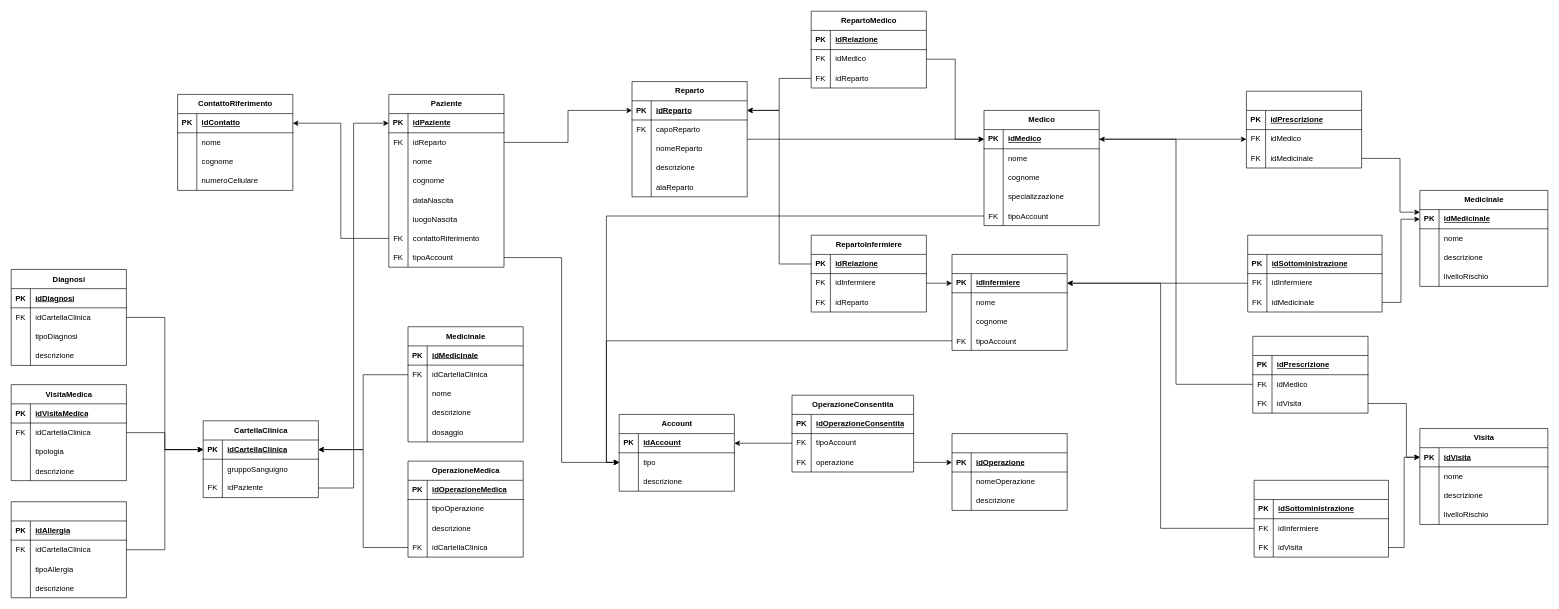
Image size: 1559x609. Some labels were removed from this diagram. The box of each missing label's shape, as (x1, y1, x2, y2) in pixels:
Alleriga: (11, 501, 126, 598)
Infiermiere: (951, 254, 1067, 350)
MedicinalePrescrizione: (1246, 91, 1362, 168)
MedicinaleSttoministrazione: (1247, 235, 1382, 312)
OperazioneAccount: (951, 433, 1067, 510)
VisitaPrescrizione: (1252, 336, 1368, 413)
VisitaSottoministrazione: (1253, 480, 1388, 557)
